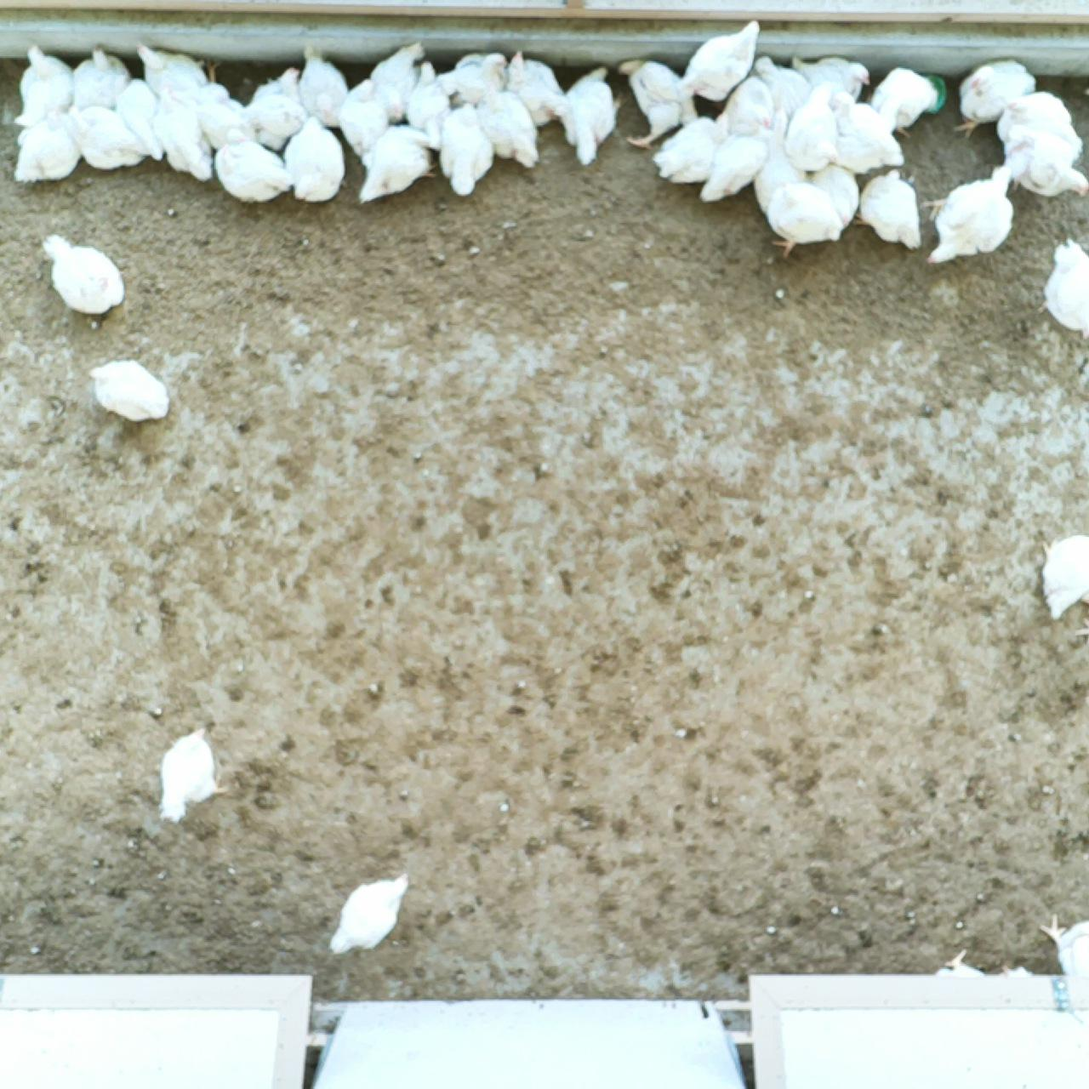chicken: (920, 156, 1020, 271), (324, 867, 418, 958), (153, 723, 234, 825), (620, 55, 703, 150), (40, 231, 130, 316), (678, 16, 764, 104), (144, 83, 218, 185), (954, 53, 1040, 136), (826, 90, 908, 176), (990, 86, 1087, 157), (765, 178, 851, 256), (558, 62, 624, 162), (212, 126, 294, 206), (276, 112, 349, 201), (357, 123, 438, 203), (1001, 128, 1089, 201), (472, 78, 541, 170), (851, 167, 927, 250), (434, 98, 499, 195), (11, 101, 83, 187), (243, 64, 311, 155), (10, 42, 78, 132), (61, 104, 152, 170), (292, 39, 355, 134), (84, 356, 173, 423), (650, 113, 728, 189), (753, 105, 806, 216), (694, 127, 770, 204), (781, 79, 841, 174), (367, 39, 430, 125), (1033, 237, 1089, 333), (434, 48, 515, 114), (866, 63, 944, 130), (135, 38, 210, 107), (109, 76, 169, 162), (1038, 527, 1089, 622), (405, 58, 456, 153), (338, 75, 396, 157), (198, 79, 256, 159), (67, 44, 134, 113), (503, 52, 566, 124), (804, 153, 859, 229), (788, 51, 872, 100), (1035, 908, 1089, 981), (750, 53, 813, 115), (715, 71, 773, 136), (936, 945, 994, 979)
